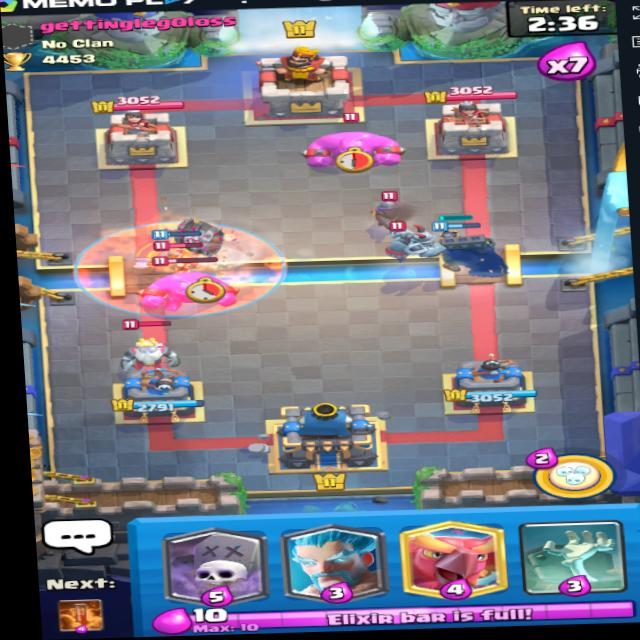electro-golem: (302, 109, 417, 169), (114, 256, 240, 309)
mega-minion: (370, 217, 453, 263)
musketeer: (365, 187, 416, 226)
royal-ghost: (115, 317, 194, 371)
valkyrie: (147, 242, 217, 274)
